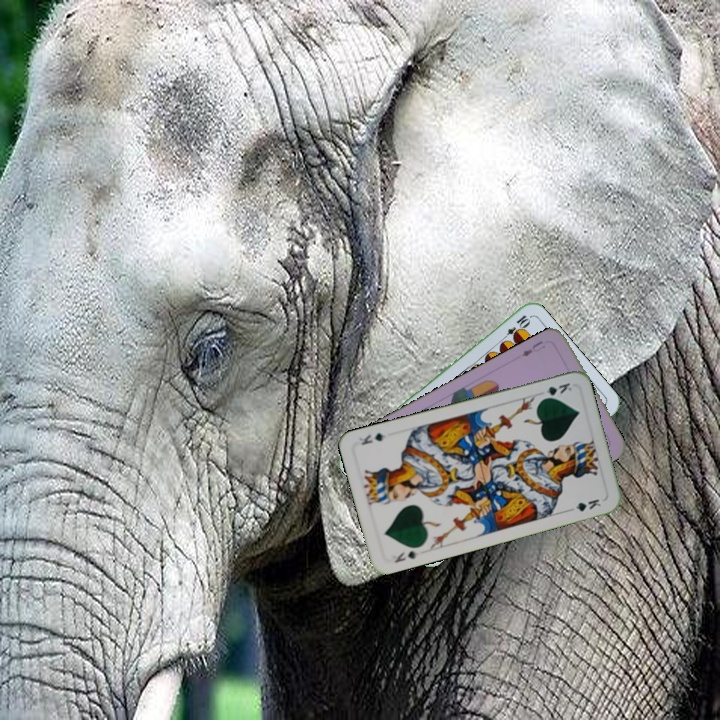E10: (497, 311, 532, 344)
EU: (518, 337, 546, 359)
GK: (535, 378, 574, 402), (388, 546, 421, 566)
